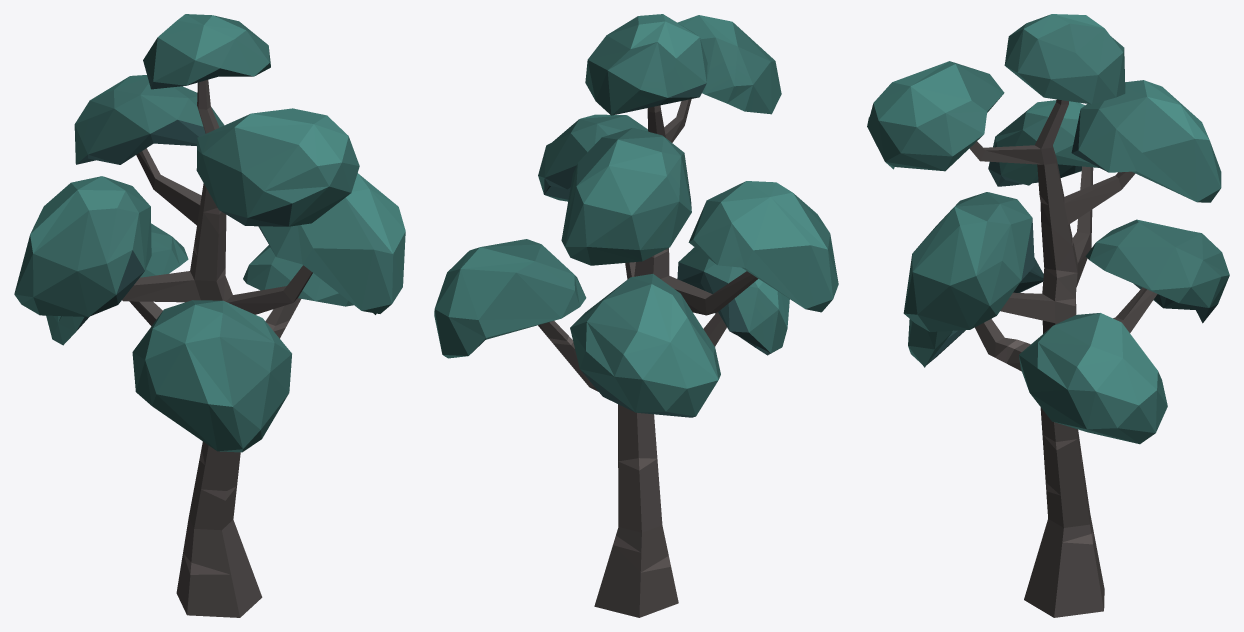
File: SM_Env_TreeBirch_01.fbx
The picture shows the model from 3 angles, left to right: view 1: azimuth 30°, elevation 25°; view 2: azimuth 150°, elevation 25°; view 3: azimuth 270°, elevation 25°; orthographic projection. The views are drawn at different scales.
Parts seen in each view (by area): view 1: SM_Env_TreeBirch_01; view 2: SM_Env_TreeBirch_01; view 3: SM_Env_TreeBirch_01.
Part boxes in pixels (box(x1,y1,x2,y2)): SM_Env_TreeBirch_01: box(14, 14, 405, 617); SM_Env_TreeBirch_01: box(434, 14, 838, 617); SM_Env_TreeBirch_01: box(867, 14, 1229, 617).
Bounding box in the file's own units: 0.0403 × 0.0592 × 0.0338.
Materials: 1 (1 with a texture image).
